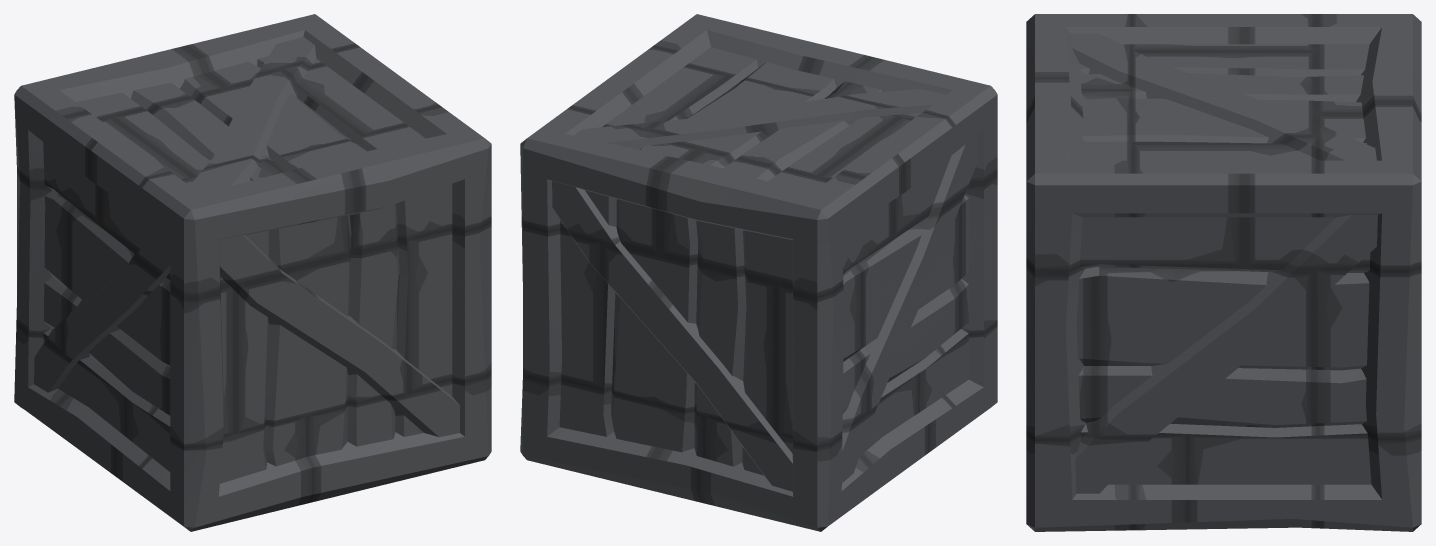
Rendered from castle_crate.gltf.
3 renders of one model, left to right at view 1: azimuth 30°, elevation 25°; view 2: azimuth 150°, elevation 25°; view 3: azimuth 270°, elevation 25°, orthographic. The views are drawn at different scales.
Parts seen in each view (by area): view 1: castle_crate; view 2: castle_crate; view 3: castle_crate.
Part boxes in pixels (x1,y1,x2,y2): castle_crate: (14, 14, 491, 531); castle_crate: (520, 14, 997, 531); castle_crate: (1026, 14, 1421, 531).
Bounding box in the file's own units: 1.07 × 1.07 × 1.07.
1 material, 1 textured.
